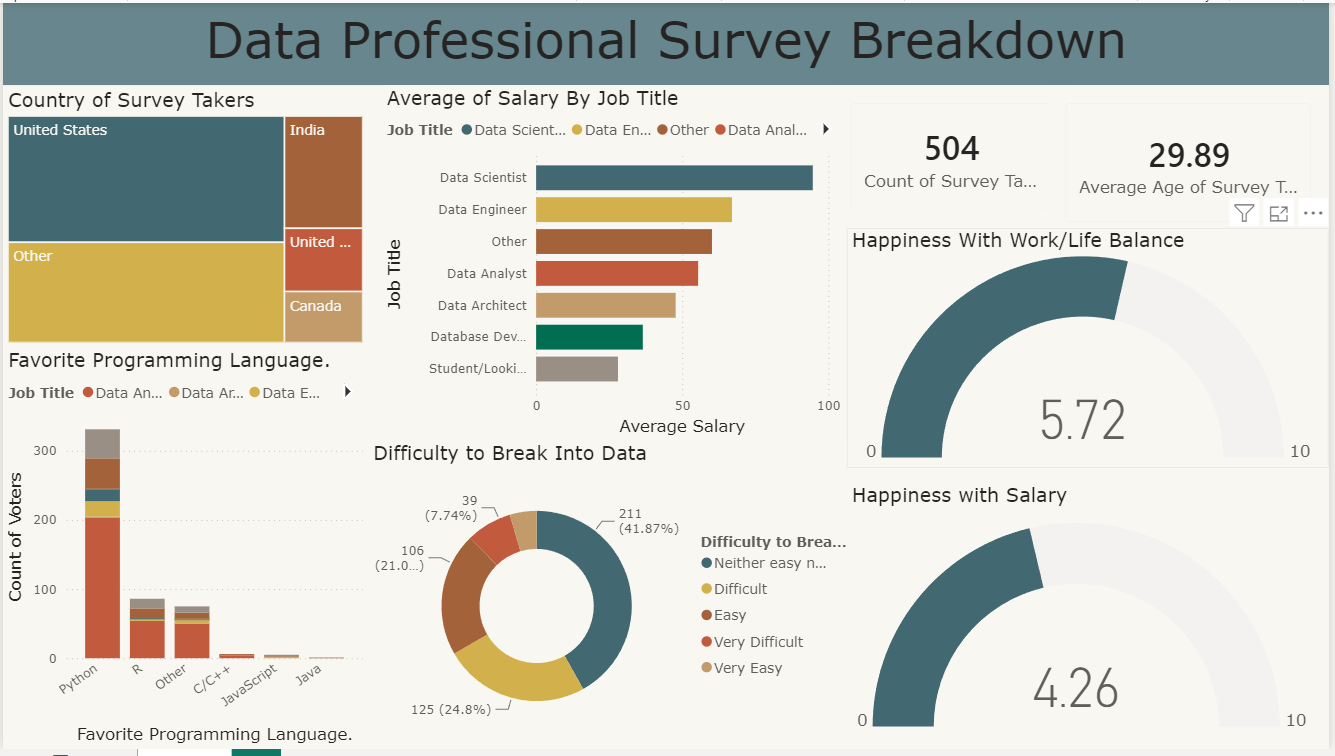

This screenshot's page, from the dashboard's own definition file:
{"tool":"powerbi","page":{"name":"Page 1","canvas":[1280,720],"ordinal":0},"visuals":[{"type":"textbox","box":[0,0,1280.3,79.5],"z":0},{"type":"cardVisual","fields":{"Data":["CountNonNull(Data Professional Survey.Unique ID)"]},"box":[800.5,79.5,227.5,137.1],"z":1},{"type":"cardVisual","fields":{"Data":["Avg(Data Professional Survey.Q10 - Current Age)"]},"box":[1008.9,79.5,271.4,149.4],"z":2},{"type":"barChart","title":"Average of Salary By Job Title","fields":{"Category":["Data Professional Survey.Q1 - Which Title Best Fits your Current Role?.1"],"Y":["Avg(Data Professional Survey.Average Salary)"],"Series":["Data Professional Survey.Q1 - Which Title Best Fits your Current Role?.1"]},"box":[366,79.5,448.2,342.7],"z":3},{"type":"columnChart","title":" Favorite Programming Language.","fields":{"Category":["Data Professional Survey.Q5 - Favorite Programming Language.1.1"],"Y":["CountNonNull(Data Professional Survey.Unique ID)"],"Series":["Data Professional Survey.Q1 - Which Title Best Fits your Current Role?.1"]},"box":[0,333.1,352.3,386.6],"z":4},{"type":"treemap","title":"Country of Survey Takers","fields":{"Group":["Data Professional Survey.Q11 - Which Country do you live in?.1"],"Values":["CountNonNull(Data Professional Survey.Q11 - Which Country do you live in?.1)"]},"box":[0,82.2,352.3,250.8],"z":5},{"type":"gauge","title":"Happiness With Work/Life Balance","fields":{"Y":["Avg(Data Professional Survey.Q6 - How Happy are you in your Current Position with the following? (Work/Life Balance))"],"MinValue":["Min(Data Professional Survey.Q6 - How Happy are you in your Current Position with the following? (Work/Life Balance))"],"MaxValue":["Max(Data Professional Survey.Q6 - How Happy are you in your Current Position with the following? (Work/Life Balance))"]},"box":[814.2,216.6,466.1,231.7],"z":6},{"type":"gauge","title":"Happiness with Salary","fields":{"Y":["Avg(Data Professional Survey.Q6 - How Happy are you in your Current Position with the following? (Salary))"],"MinValue":["Min(Data Professional Survey.Q6 - How Happy are you in your Current Position with the following? (Salary))1"],"MaxValue":["Max(Data Professional Survey.Q6 - How Happy are you in your Current Position with the following? (Salary))2"]},"box":[814.2,463.3,453.7,256.3],"z":7},{"type":"donutChart","title":"Difficulty to Break Into Data","fields":{"Category":["Data Professional Survey.Q7 - How difficult was it for you to break into Data?"],"Y":["CountNonNull(Data Professional Survey.Q7 - How difficult was it for you to break into Data?)"],"Series":["Data Professional Survey.Q7 - How difficult was it for you to break into Data?"]},"box":[352.3,422.2,461.9,297.5],"z":8}]}

Visuals, with their boxes in screenshot pixels (x1, y1, x2, y2), scaled from the page's 1280x720 canvas onto the 1335x756 screenshot:
textbox: 0/0/1334/83
cardVisual - CountNonNull(Data Professional Survey.Unique ID): 835/83/1072/227
cardVisual - Avg(Data Professional Survey.Q10 - Current Age): 1052/83/1334/240
"Average of Salary By Job Title" barChart: 382/83/849/443
" Favorite Programming Language." columnChart: 0/350/367/755
"Country of Survey Takers" treemap: 0/86/367/350
"Happiness With Work/Life Balance" gauge: 849/227/1334/471
"Happiness with Salary" gauge: 849/486/1322/755
"Difficulty to Break Into Data" donutChart: 367/443/849/755
